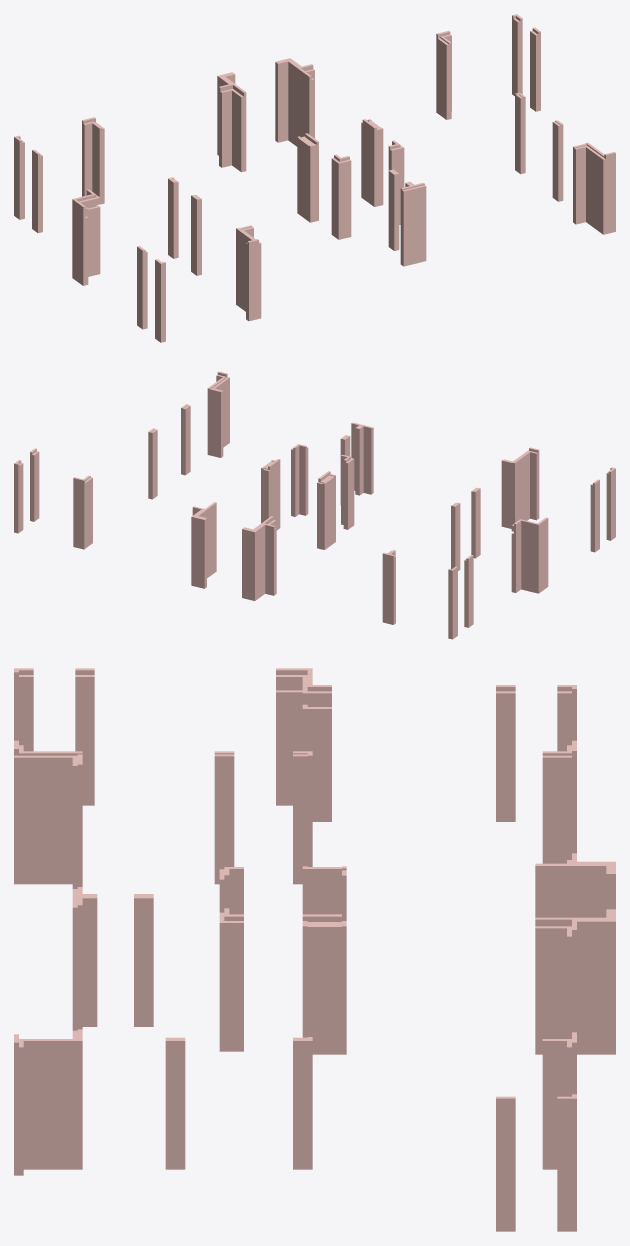
The picture shows the model from 3 angles, top to bottom: view 1: azimuth 30°, elevation 25°; view 2: azimuth 150°, elevation 25°; view 3: azimuth 270°, elevation 25°; orthographic projection. The views are drawn at different scales.
Visible parts, largest first — view 1: C_Z; view 2: C_Z; view 3: C_Z.
Part boxes in pixels (x1,y1,x2,y2): C_Z: (14,14,615,342); C_Z: (14,371,615,639); C_Z: (14,668,615,1231).
Size of the model in its own units: 20.8 by 3 by 12.3.
